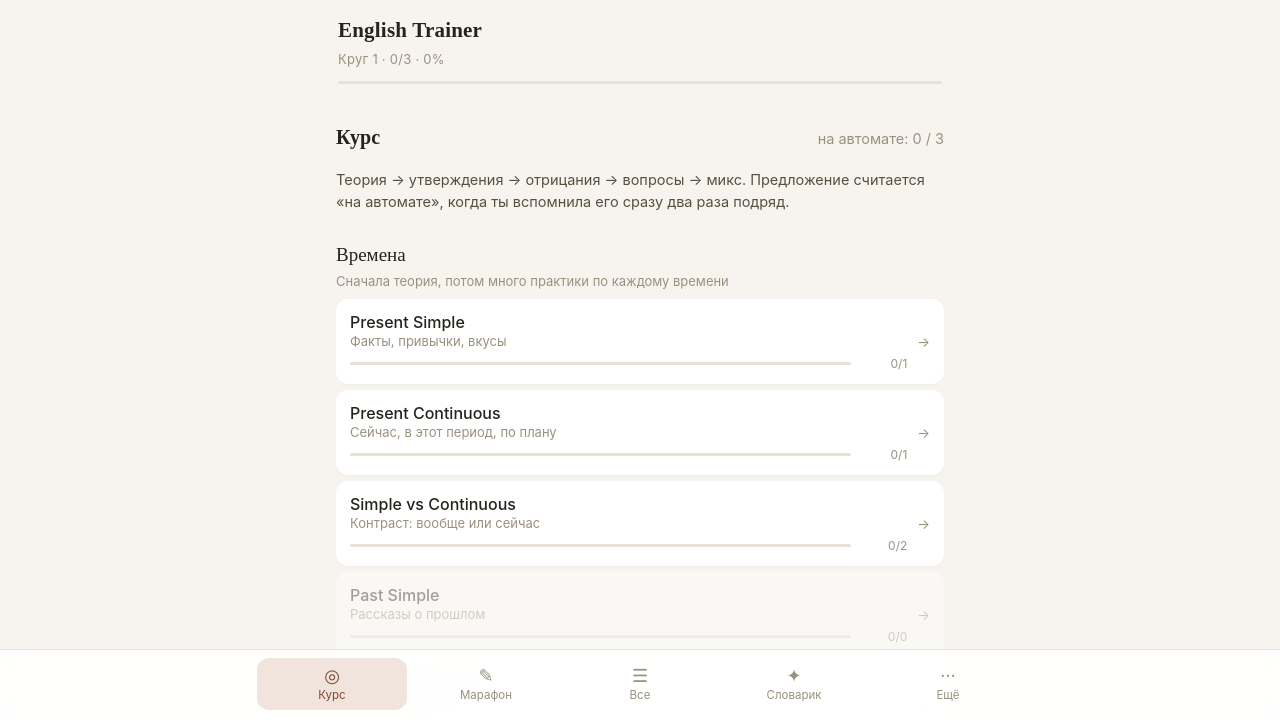
Scenario: основные сценарии UI › «Выучено» отмечает и переходит дальше; English на следующей карточке скрыт
The image size is (1280, 720).
Click the button "✎ Марафон" at (486, 684), box [411, 658, 561, 710]
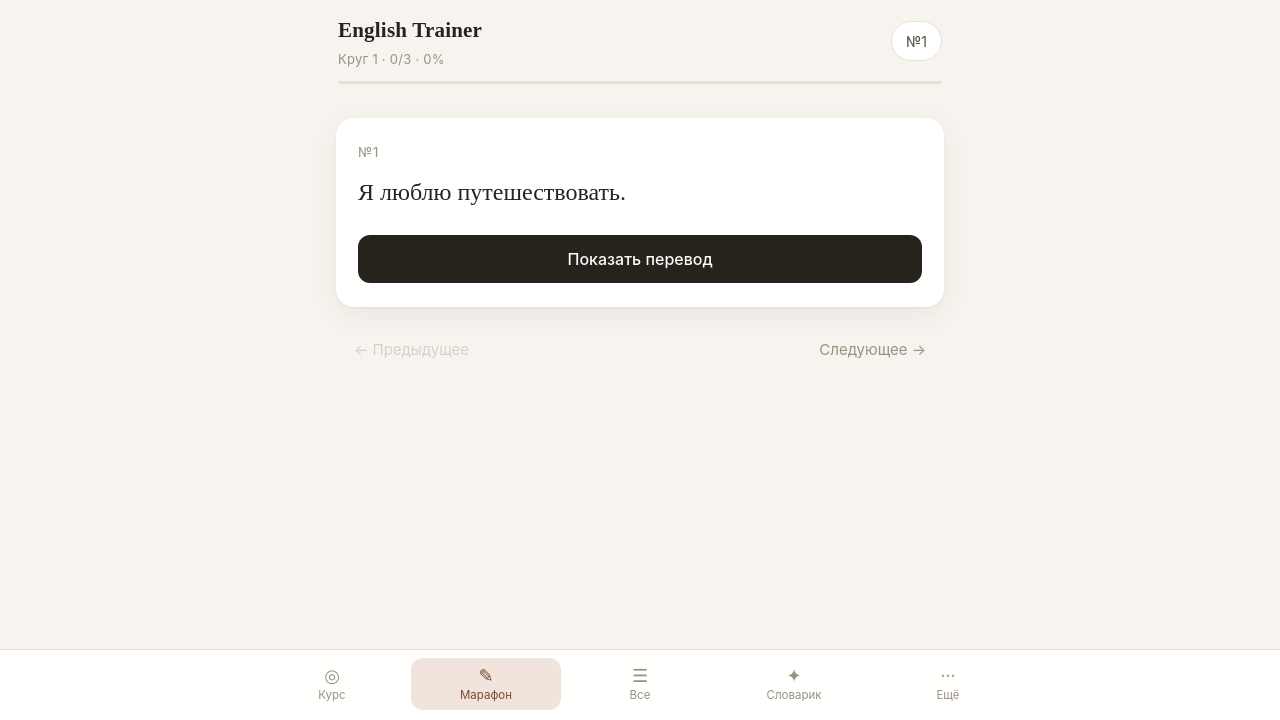
Click the button "Показать перевод" at (640, 259), box [358, 235, 922, 283]
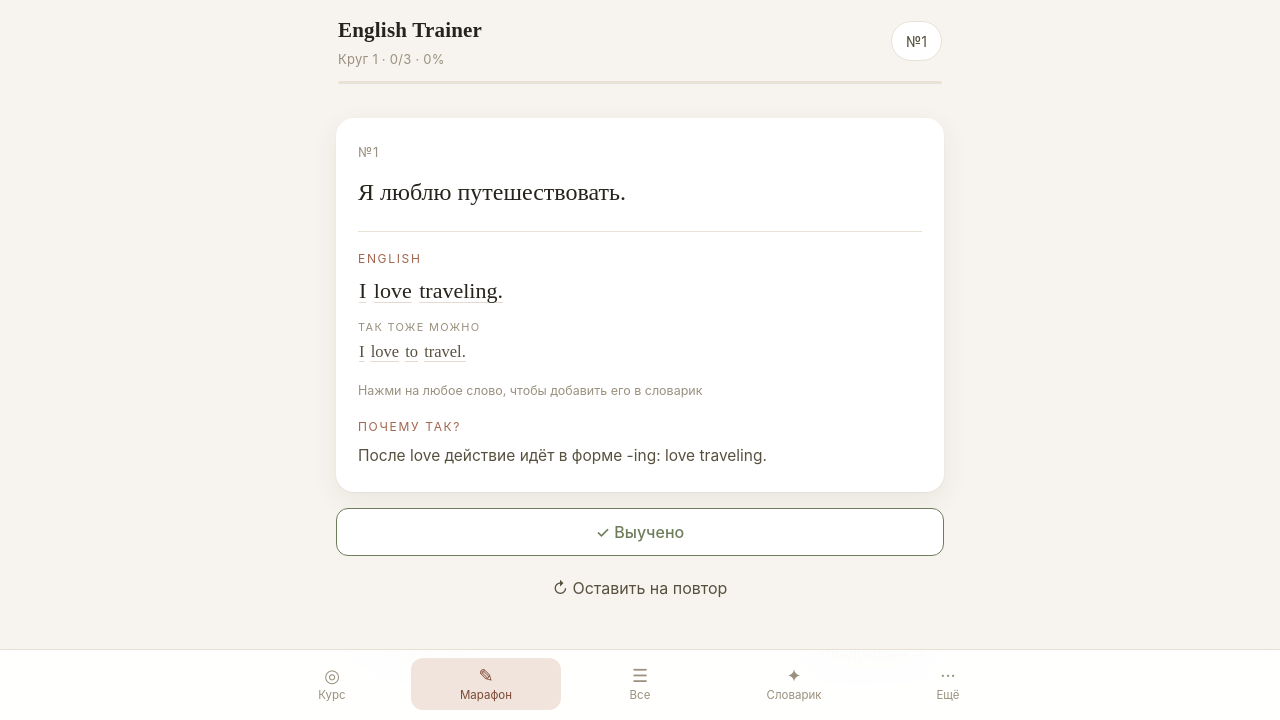
Click the button "✓ Выучено" at (640, 532), box [336, 508, 944, 556]
Wait 600 ms
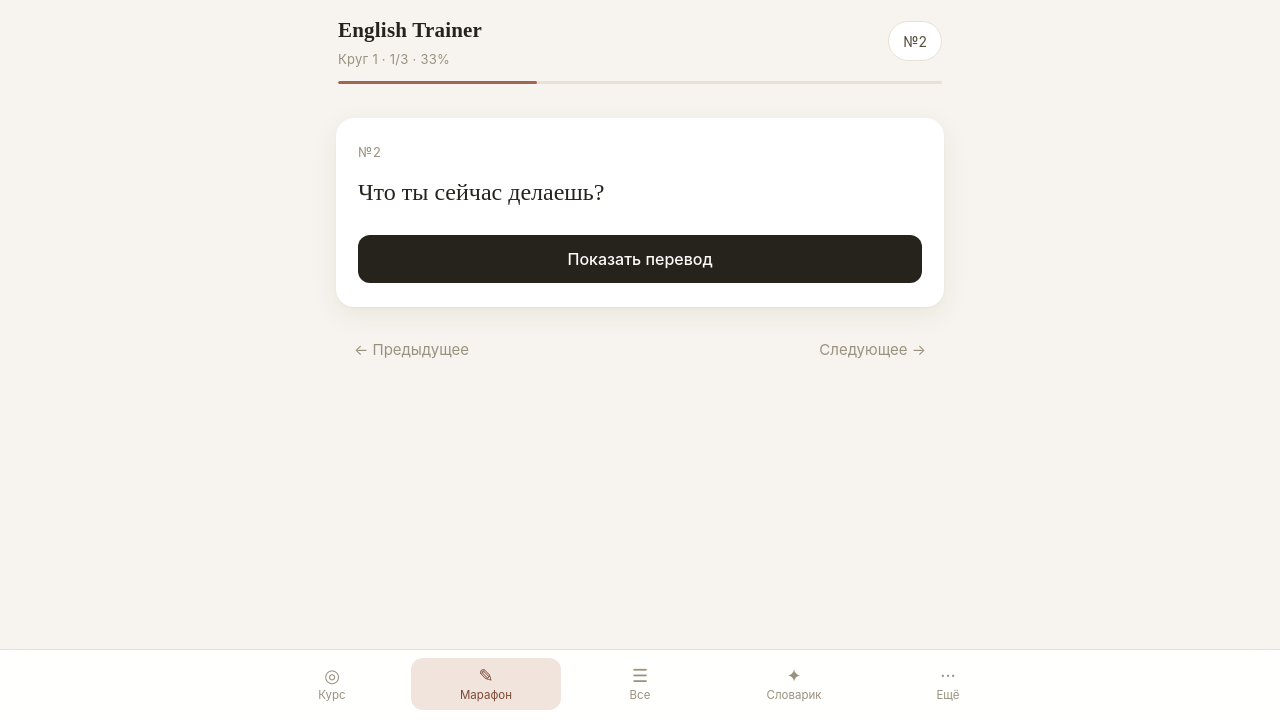
expect the text "Что ты сейчас делаешь?" is shown: met, box [358, 179, 604, 205]
expect the button "Показать перевод" is shown: met, box [358, 235, 922, 283]
